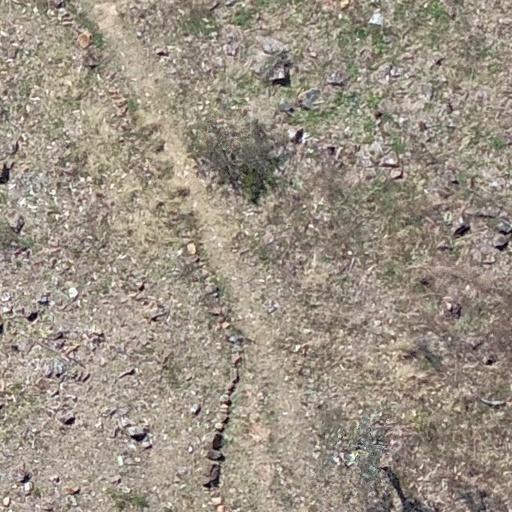stone: (296, 88, 322, 110), (438, 297, 460, 323), (44, 357, 68, 379), (81, 47, 101, 70), (449, 212, 467, 236), (6, 134, 24, 158), (326, 70, 348, 87), (269, 67, 290, 84), (126, 425, 148, 441), (10, 214, 26, 235), (21, 304, 39, 322), (379, 154, 400, 169), (492, 233, 510, 250), (57, 410, 76, 426), (278, 99, 296, 115), (466, 333, 482, 349), (495, 220, 512, 234), (40, 289, 54, 305), (153, 45, 170, 58)
